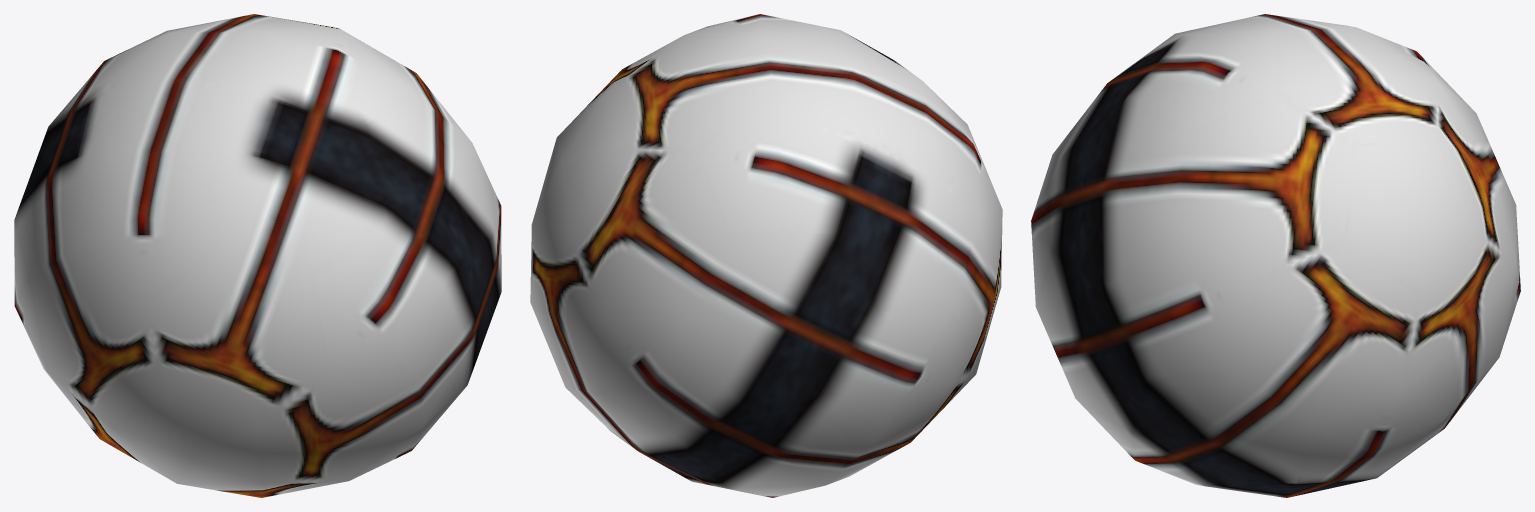
File: st_ball_030.fbx
3 renders of one model, left to right at view 1: azimuth 30°, elevation 25°; view 2: azimuth 150°, elevation 25°; view 3: azimuth 270°, elevation 25°, orthographic. The views are drawn at different scales.
Visible parts, largest first — view 1: st_Ball_000; view 2: st_Ball_000; view 3: st_Ball_000.
Boxes of the visible parts, box(x1,y1,x2,y2) form: st_Ball_000: box(14, 14, 501, 497); st_Ball_000: box(530, 14, 1002, 497); st_Ball_000: box(1031, 14, 1520, 497).
Size of the model in its own units: 21.7 by 22 by 21.84.
